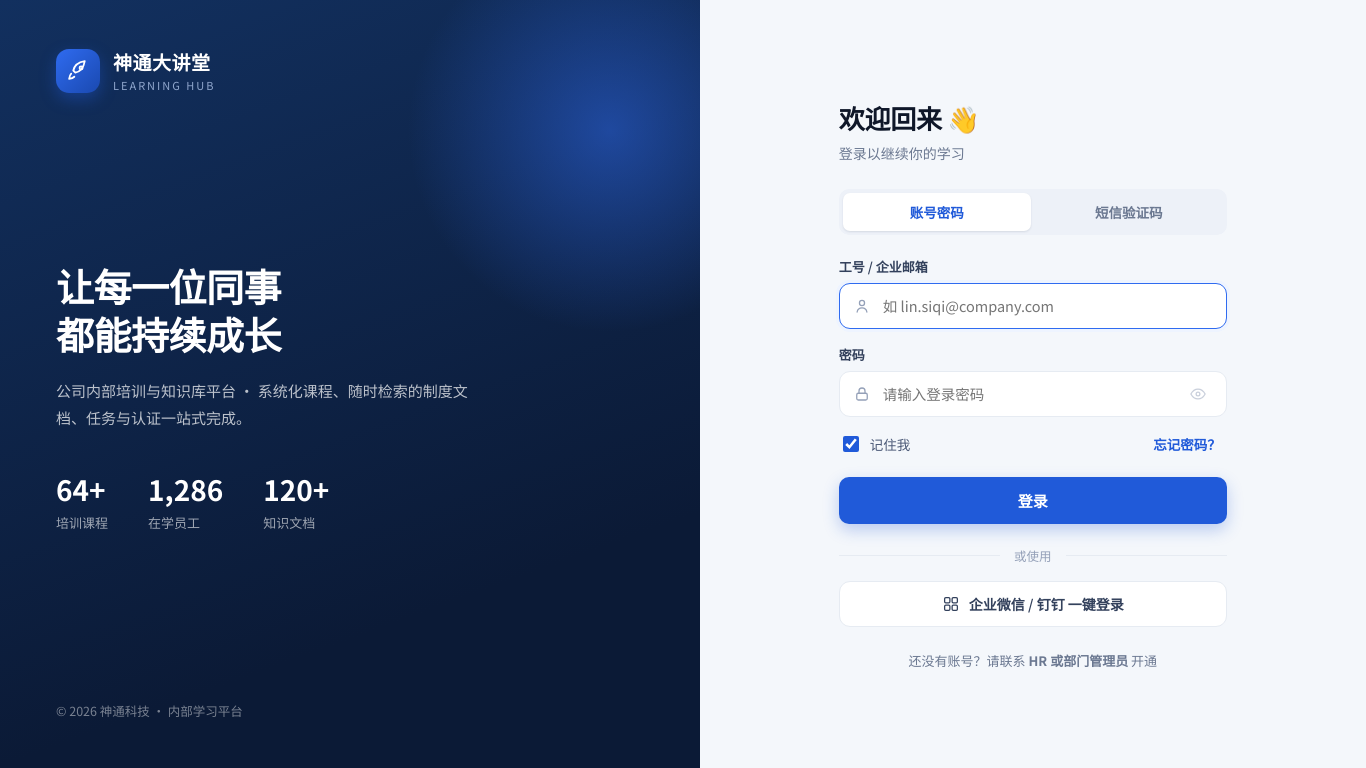
LoginPage › refuses empty account
Click the button "登录". click: [1033, 500]
box: [839, 476, 1227, 524]
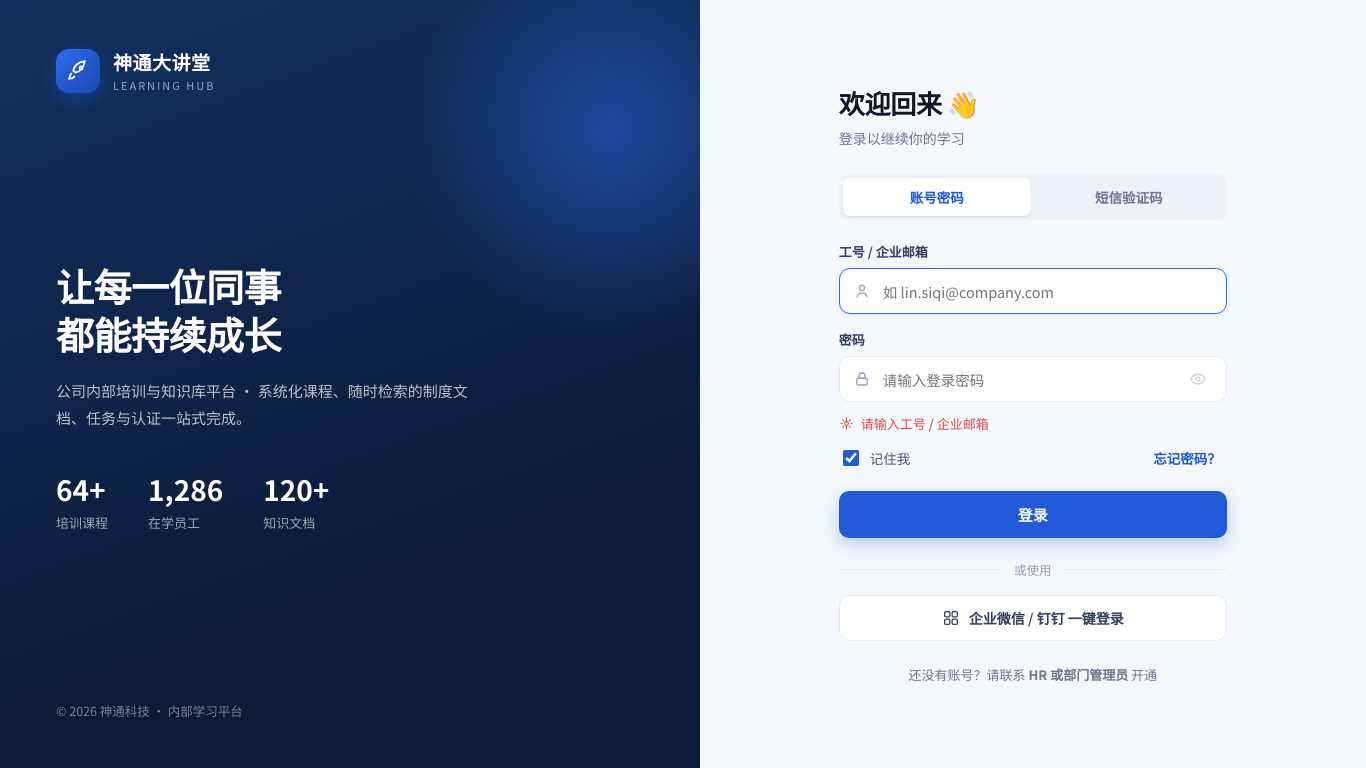
expect the text "请输入工号 / 企业邮箱" is shown: met, box [839, 414, 989, 433]
